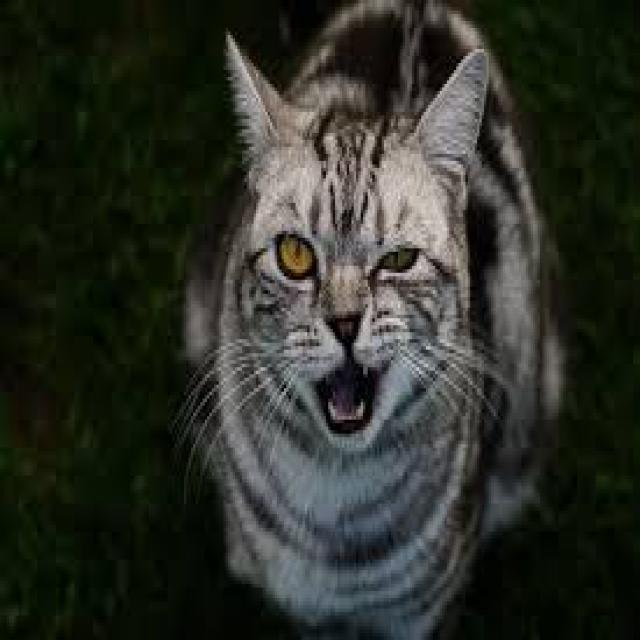Cat: (175, 2, 570, 638)
